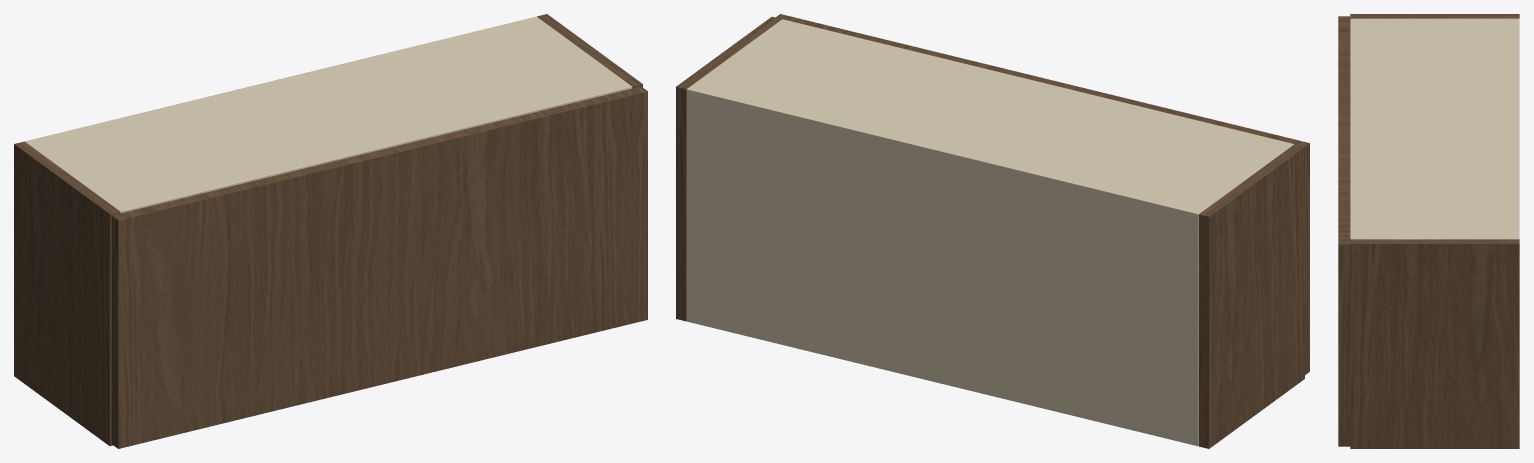
File: oppein-ply-mso-wsl3615.glb
3 renders of one model, left to right at view 1: azimuth 30°, elevation 25°; view 2: azimuth 150°, elevation 25°; view 3: azimuth 270°, elevation 25°, orthographic. The views are drawn at different scales.
Parts seen in each view (by area): view 1: Door, Cabinet top, Cabinet side, Cabinet back, Cabinet side.001; view 2: Cabinet back, Cabinet top, Cabinet side, Door, Cabinet side.001, Cabinet bottom; view 3: Cabinet top, Cabinet side.001, Door, Cabinet back, Cabinet side.
Boxes of the visible parts, x1,y1,x2,y2 form: Door: (111,86,647,448); Cabinet top: (25,16,632,213); Cabinet side: (14,141,120,446); Cabinet back: (25,16,539,143); Cabinet side.001: (537,14,642,88); Cabinet back: (686,86,1201,446); Cabinet top: (686,19,1293,224); Cabinet side: (1199,144,1304,448); Door: (776,14,1309,374); Cabinet side.001: (676,16,781,321); Cabinet bottom: (686,311,1198,445); Cabinet top: (1350,18,1519,239); Cabinet side.001: (1350,239,1519,448); Door: (1338,16,1350,446); Cabinet back: (1513,18,1519,239); Cabinet side: (1350,14,1519,18).
Bounding box in the file's own units: 0.9144 × 0.381 × 0.3048.
Materials: 2 (1 with a texture image).
